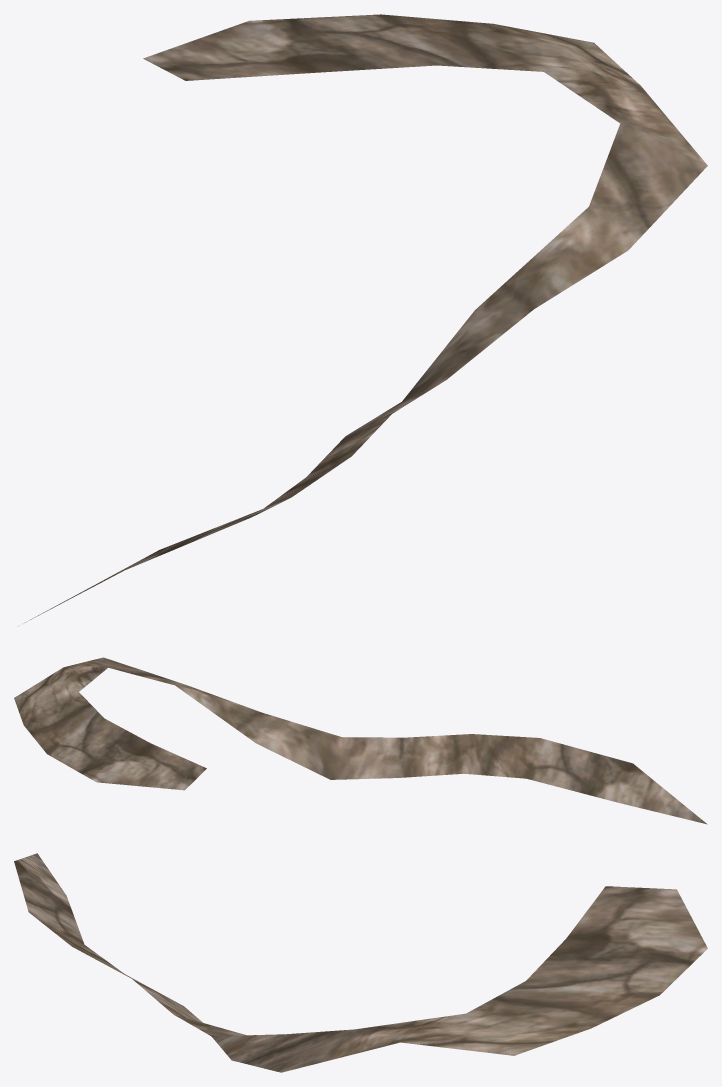
The model's file is EKH_GROTTO_PS_GR_ROOF_SEEM.fbx.
3 views of the same model, one above another, from view 1: azimuth 30°, elevation 25°; view 2: azimuth 150°, elevation 25°; view 3: azimuth 270°, elevation 25° (orthographic). The views are drawn at different scales.
Visible parts, largest first — view 1: EKH_GROTTO_PS_GR_ROOF_SEEM; view 2: EKH_GROTTO_PS_GR_ROOF_SEEM; view 3: EKH_GROTTO_PS_GR_ROOF_SEEM.
Boxes of the visible parts, x1=… form: EKH_GROTTO_PS_GR_ROOF_SEEM: x1=19, y1=14, x2=707, y2=625; EKH_GROTTO_PS_GR_ROOF_SEEM: x1=14, y1=657, x2=707, y2=824; EKH_GROTTO_PS_GR_ROOF_SEEM: x1=14, y1=853, x2=707, y2=1072.
Bounding box in the file's own units: 125893 × 28584 × 98880.
Materials: 1 (1 with a texture image).
